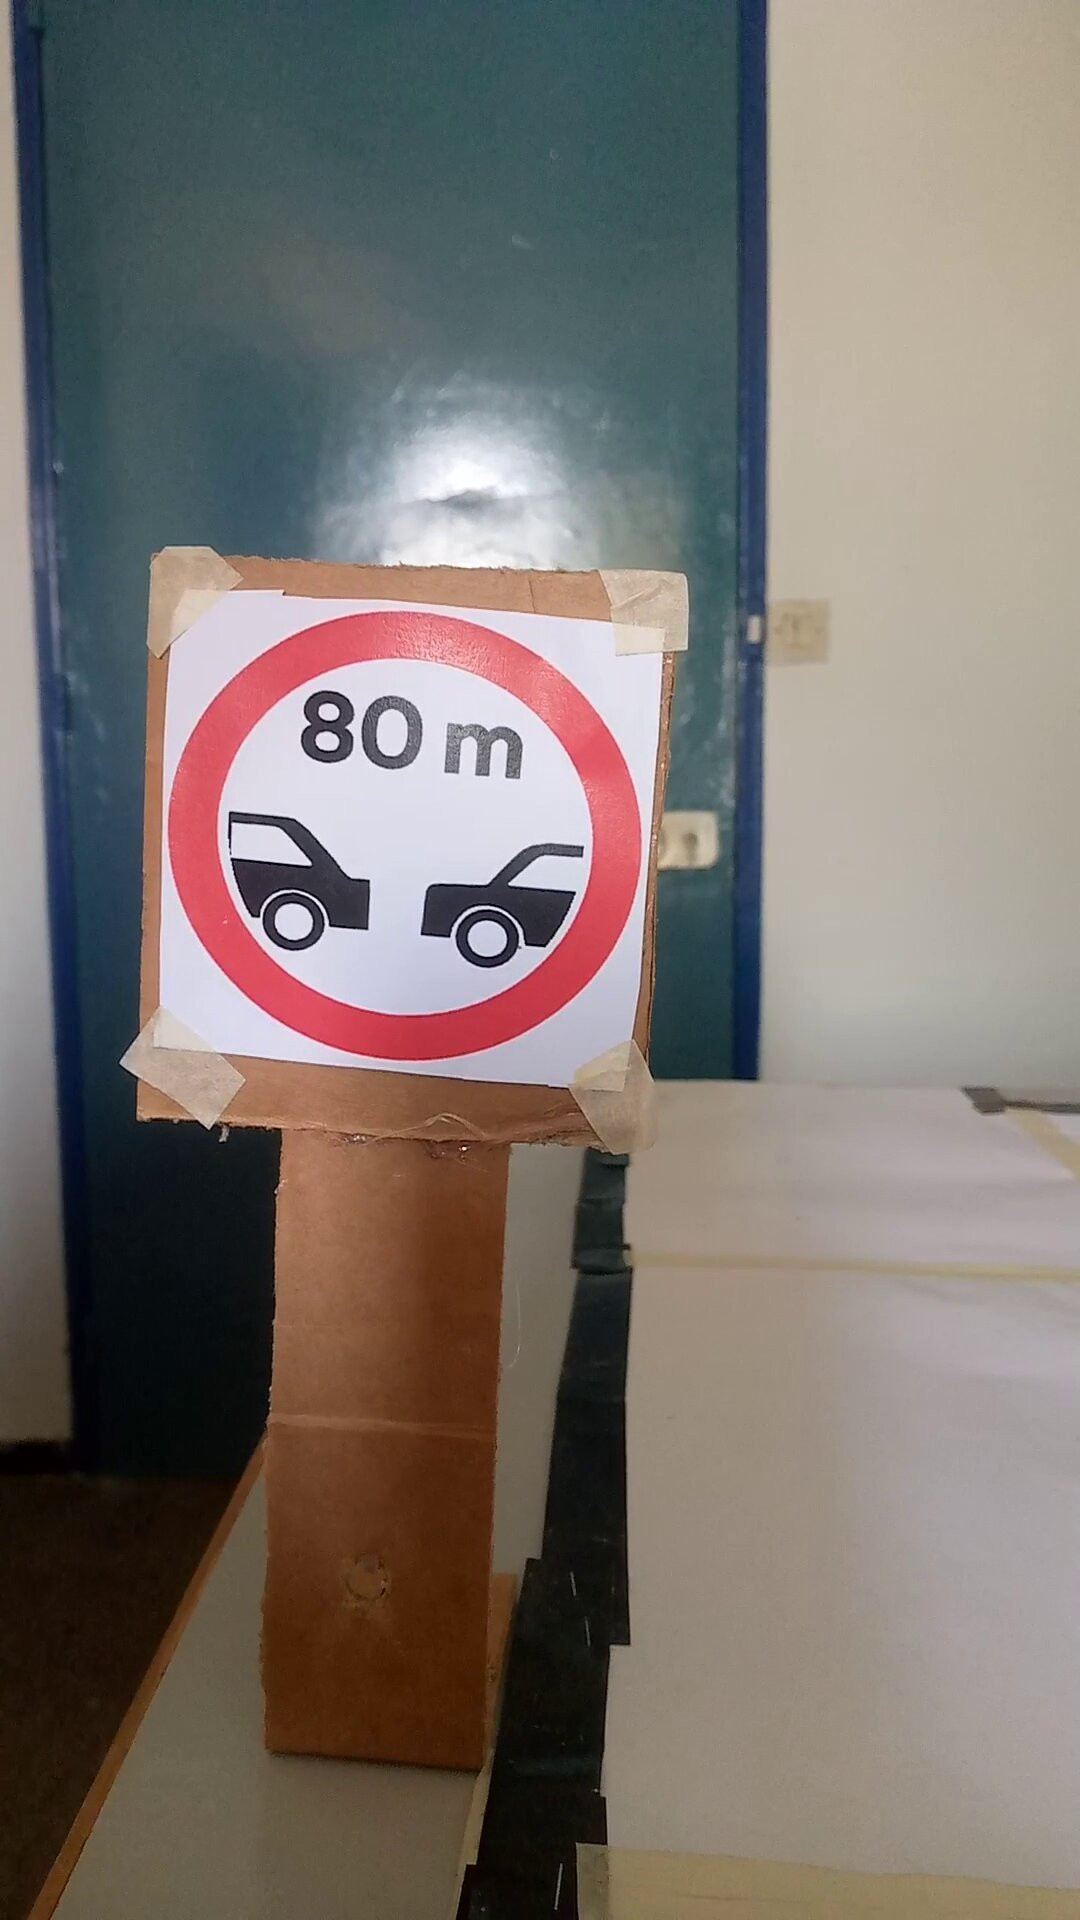panel001: (150, 541, 684, 1137)
